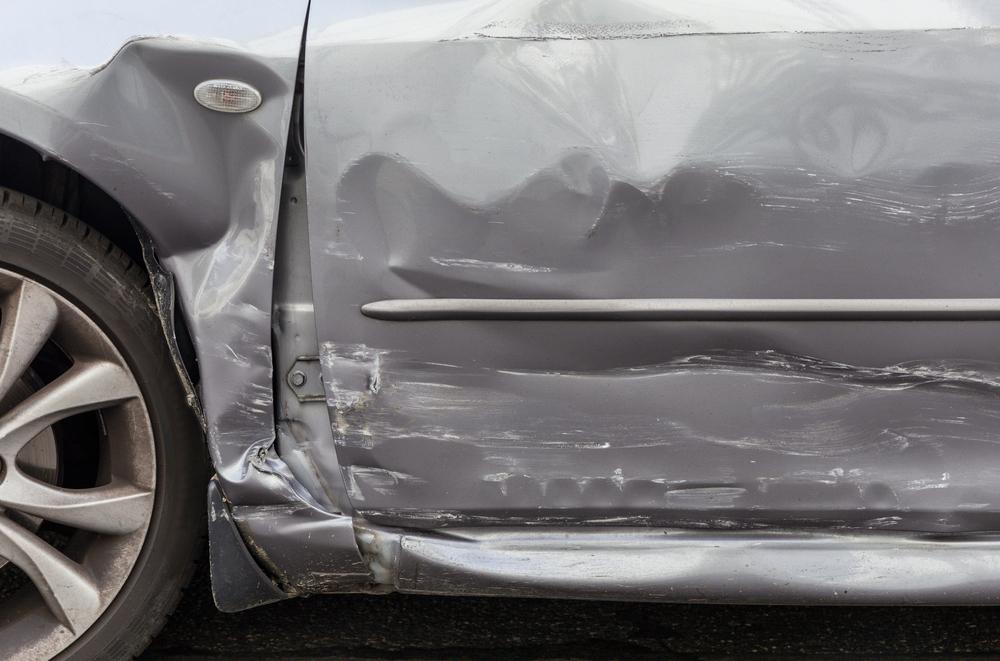dent: (315, 0, 1000, 532), (76, 29, 293, 464), (404, 536, 1000, 594)
